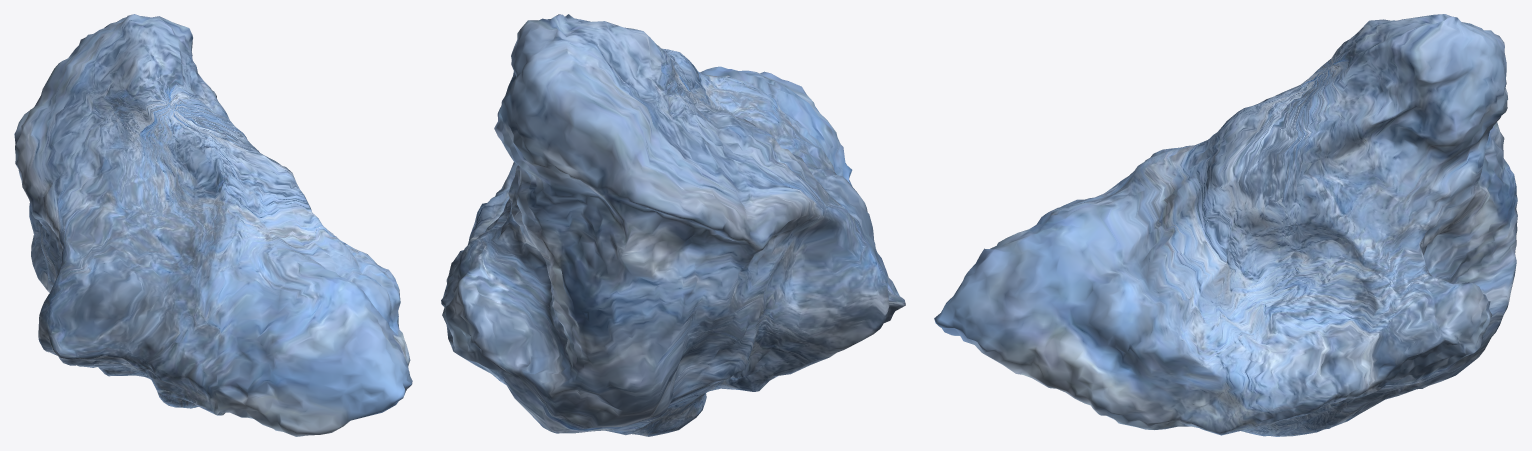
File: ice3.fbx
3 views of the same model, side by side, from view 1: azimuth 30°, elevation 25°; view 2: azimuth 150°, elevation 25°; view 3: azimuth 270°, elevation 25° (orthographic). The views are drawn at different scales.
Parts seen in each view (by area): view 1: 1; view 2: 1; view 3: 1.
Part boxes in pixels (x1,y1,x2,y2): 1: (14,14,412,436); 1: (441,14,905,436); 1: (934,14,1517,436).
Bounding box in the file's own units: 325 × 330 × 431.
1 material, 1 textured.
